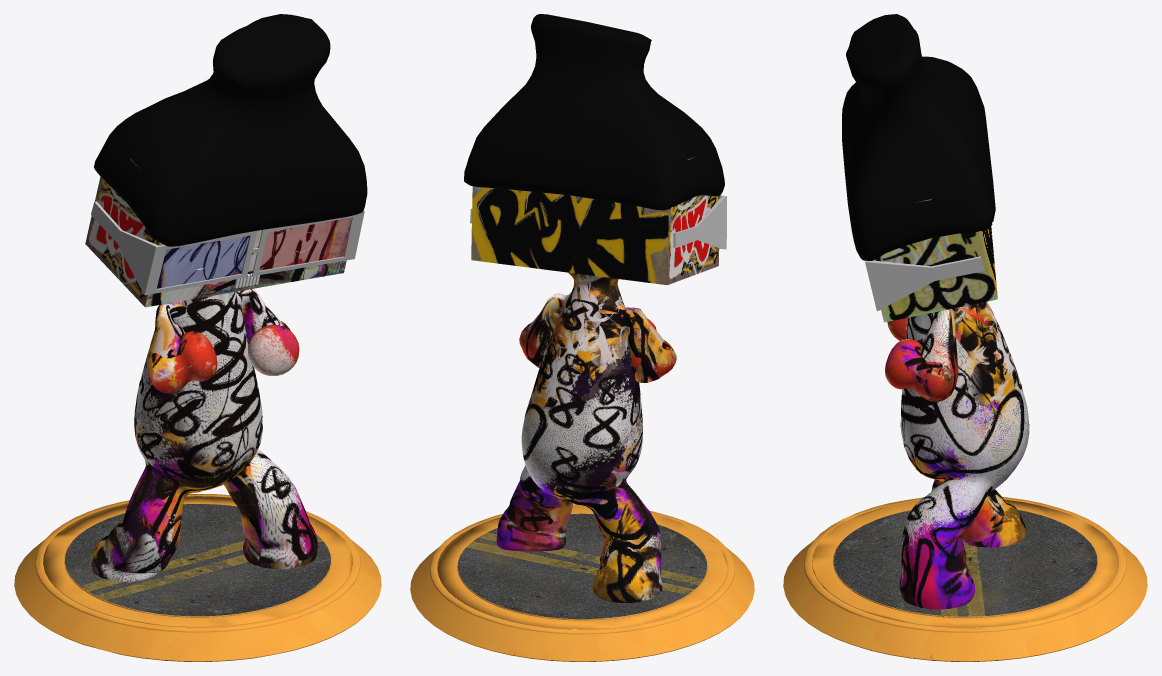
The picture shows the model from 3 angles, left to right: view 1: azimuth 30°, elevation 25°; view 2: azimuth 150°, elevation 25°; view 3: azimuth 270°, elevation 25°; orthographic projection. The views are drawn at different scales.
Visible parts, largest first — view 1: BBody; view 2: BBody; view 3: BBody.
Part boxes in pixels (x1,y1,x2,y2): BBody: [14, 14, 381, 661]; BBody: [410, 14, 754, 661]; BBody: [783, 14, 1147, 661].
Bounding box in the file's own units: 1.45 × 2.5 × 1.45.
Materials: 9 (4 with a texture image).
